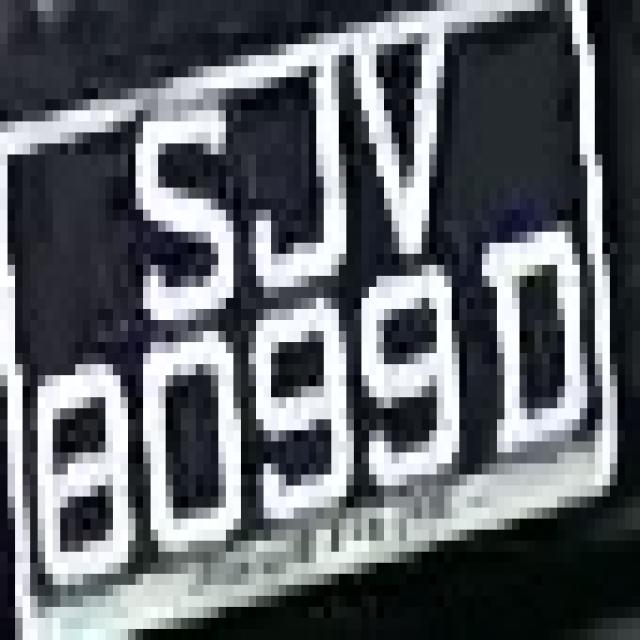0: (120, 309, 241, 552)
8: (30, 331, 143, 596)
9: (248, 320, 362, 541), (362, 276, 474, 485)
D: (460, 210, 602, 463)
J: (226, 66, 361, 298)
S: (98, 88, 248, 342)
V: (331, 0, 482, 243)
